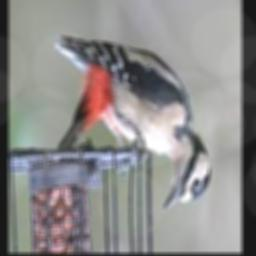Woodpecker: (55, 36, 210, 210)
